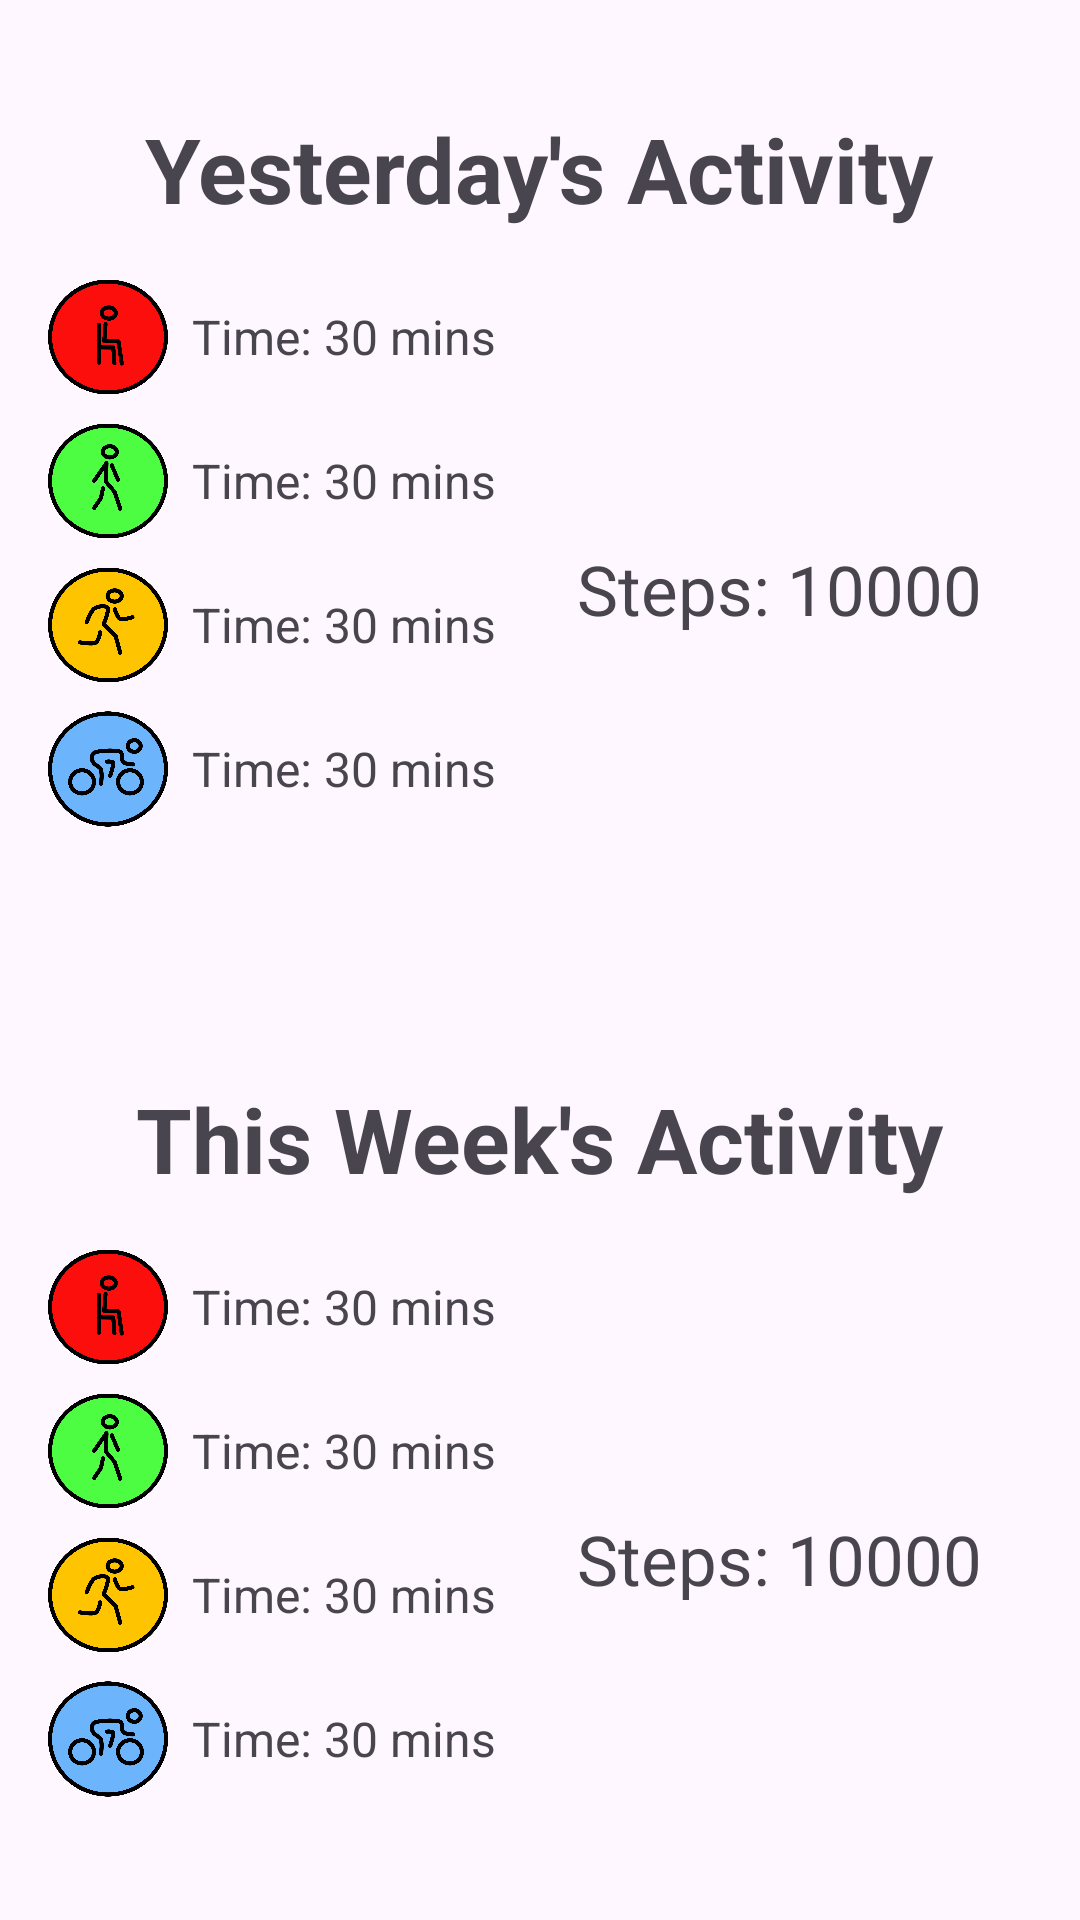

Icon click points for this 1080 × 1920 phone screenshot, format (x,y):
Cycling activity icon: (108,769), (108,1739)
Idle activity icon: (108,337), (108,1307)
Running activity icon: (108,625), (108,1595)
Walking activity icon: (108,481), (108,1451)
